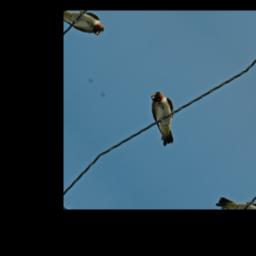Swallow: (131, 87, 194, 149)
